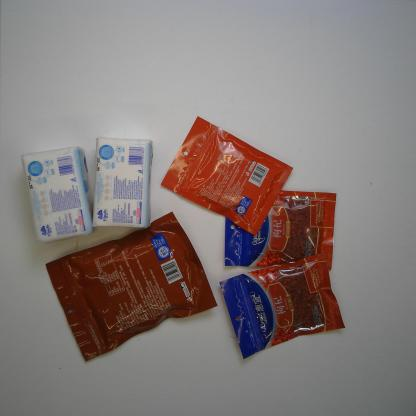Dried Food: (44, 209, 219, 363)
Dried Fruit: (160, 114, 294, 236), (219, 252, 346, 360), (224, 190, 338, 271)
Tissue: (20, 145, 98, 245), (91, 136, 155, 230)
